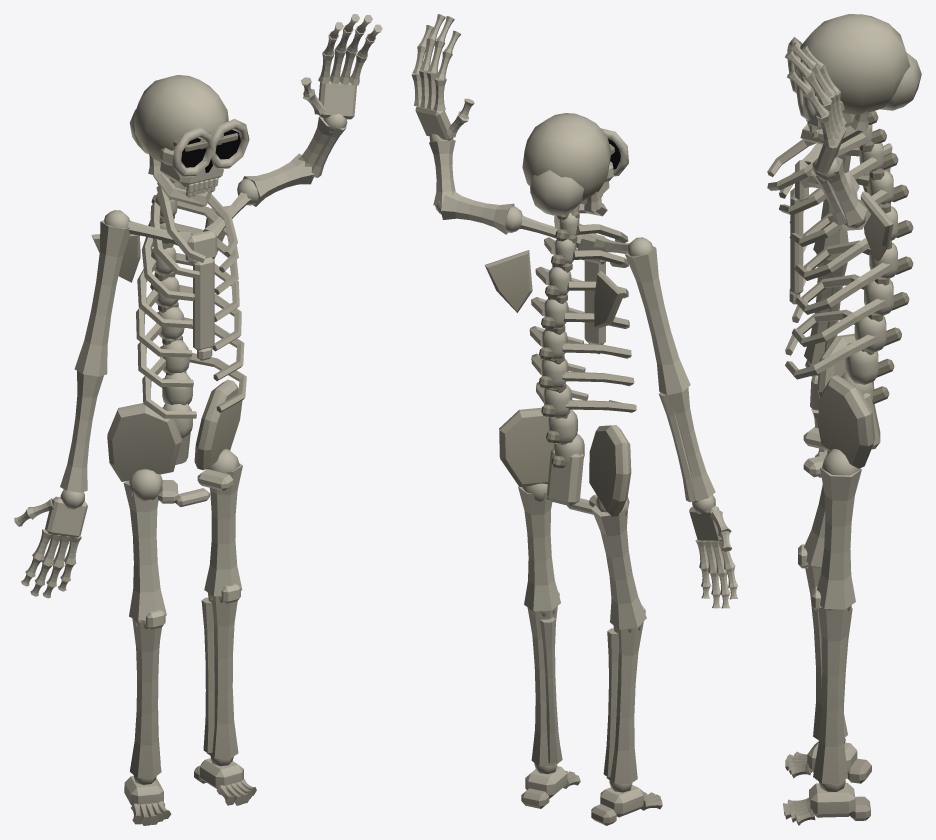
File: skeleton-01.glb
The picture shows the model from 3 angles, left to right: view 1: azimuth 30°, elevation 25°; view 2: azimuth 150°, elevation 25°; view 3: azimuth 270°, elevation 25°; orthographic projection. The views are drawn at different scales.
Visible parts, largest first — view 1: skeleton_01; view 2: skeleton_01; view 3: skeleton_01.
Boxes of the visible parts, bbox=[...] form: skeleton_01: bbox=[14, 14, 382, 825]; skeleton_01: bbox=[411, 14, 738, 825]; skeleton_01: bbox=[767, 14, 921, 825].
Size of the model in its own units: 1 by 2.13 by 0.3568.
